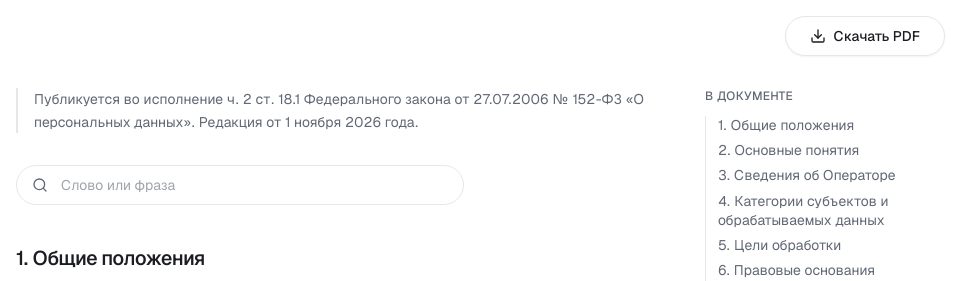
LegalScreen — поиск по документу › очистка возвращает документ в исходный вид
The width and height of the screenshot is (962, 281).
Type "срок хранения" into the search field.
click(240, 186); type("срок хранения")  # box [16,166,464,206]
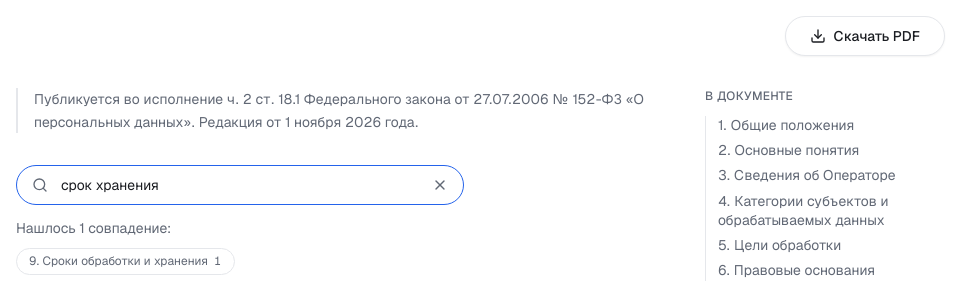
Click the button named "Очистить поиск".
click(440, 186)  # box [424,170,456,202]
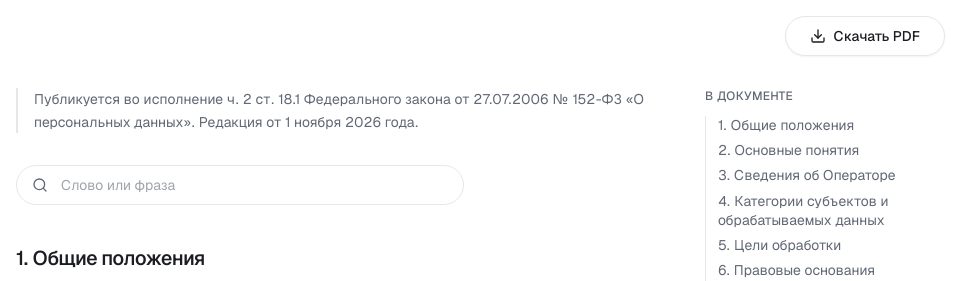
expect the search field is empty: met, box [16,166,464,206]
